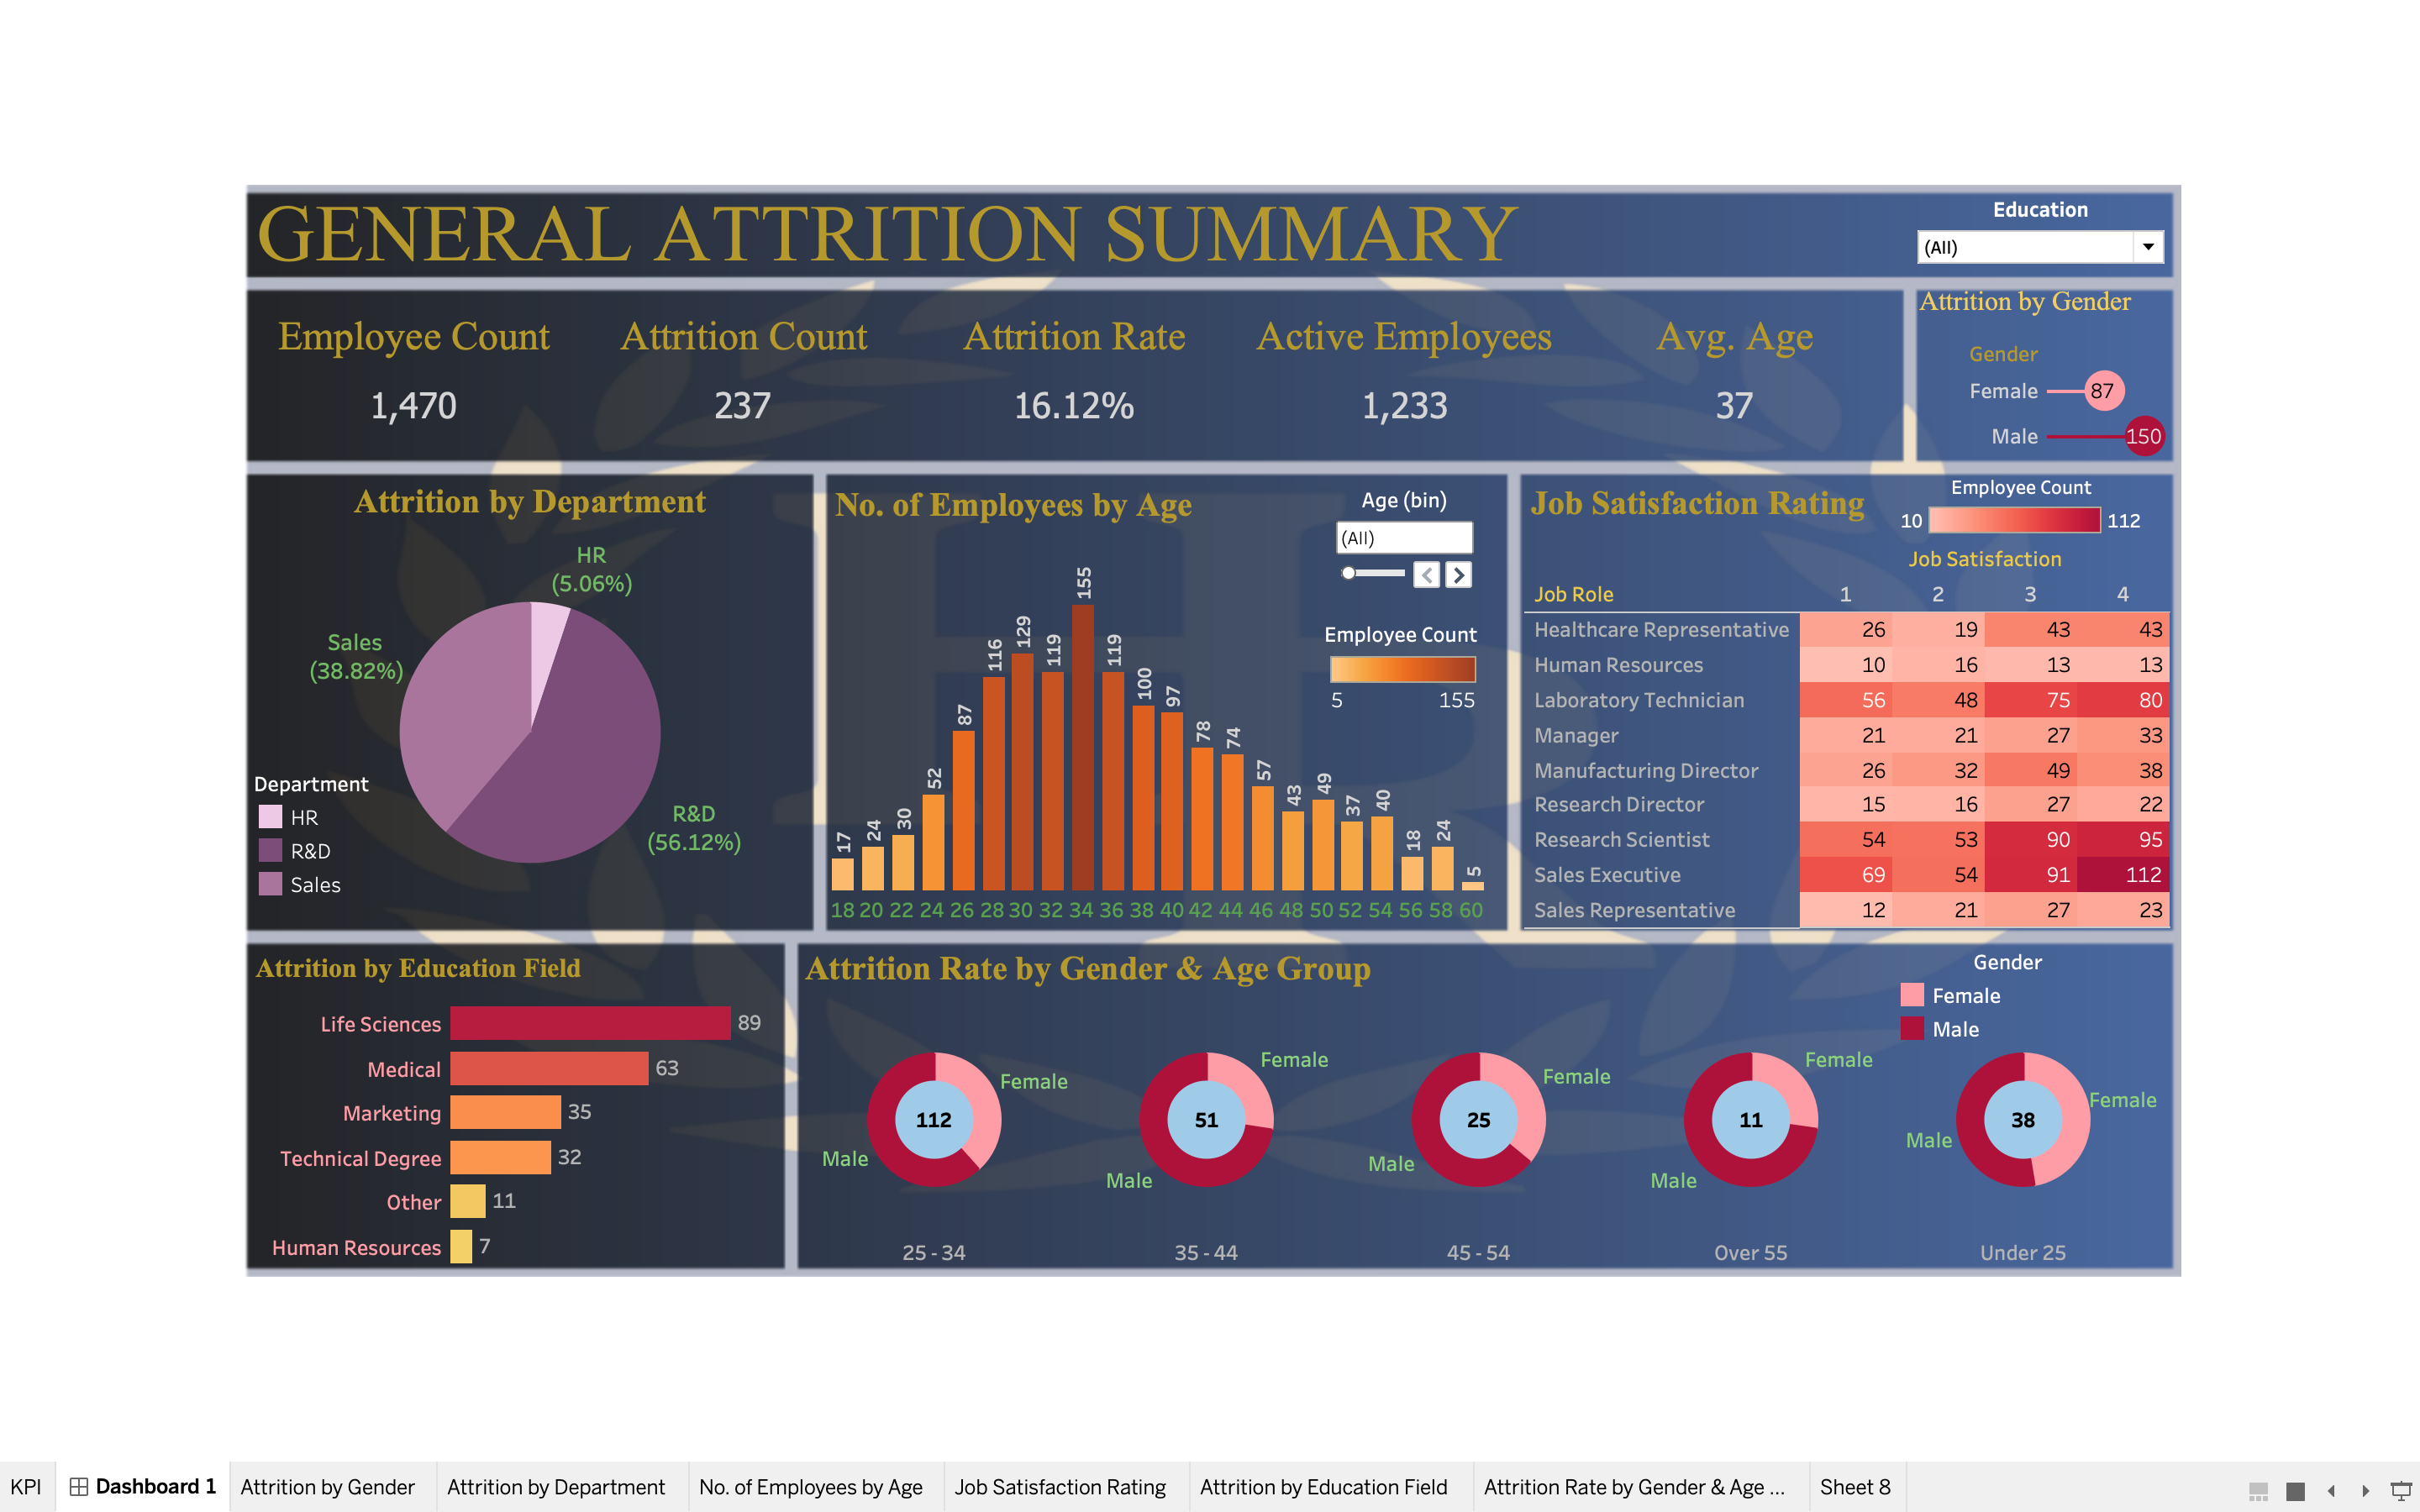

Layout of this report page (visuals, bound fields, positions):
{"tool":"tableau","page":{"name":"Dashboard 1","canvas":[1180,800],"ordinal":0},"visuals":[{"type":"image","param":"Image/HR background.pptx-2.png","box":[8,8,1164,784]},{"type":"text","box":[20,78,915,52]},{"type":"filter","title":"Attrition by Department","param":"[federated.1u7kgch0cr3otj17amkc011vphcv].[none:Education:nk]","box":[1008,81,153,51]},{"type":"worksheet","title":"Attrition by Gender","mark":"Automatic","rows":["Gender"],"cols":["Calculation_2220696879217299457","Calculation_2220696879217299457"],"box":[1008,131,154,107]},{"type":"worksheet","title":"KPI","mark":"Automatic","box":[18,139,983,95]},{"type":"legend","title":"Job Satisfaction Rating","param":"[federated.1u7kgch0cr3otj17amkc011vphcv].[sum:Employee Count:qk]","box":[997,247,152,43]},{"type":"worksheet","title":"Attrition by Department","mark":"Pie","box":[19.2,247.5,333.2,268.3]},{"type":"worksheet","title":"Job Satisfaction Rating","mark":"Square","rows":["Job Role"],"cols":["Job Satisfaction"],"box":[777,249,385,269]},{"type":"worksheet","title":"No. of Employees by Age","mark":"Automatic","rows":["Employee Count"],"cols":["Age (bin)"],"box":[363,250,392,266]},{"type":"filter","title":"No. of Employees by Age","param":"[federated.1u7kgch0cr3otj17amkc011vphcv].[none:Age (bin):ok]","box":[662,254,88,71]},{"type":"legend","title":"No. of Employees by Age","param":"[federated.1u7kgch0cr3otj17amkc011vphcv].[sum:Employee Count:qk]","box":[658,334,95,59]},{"type":"legend","title":"Attrition by Department","param":"[federated.1u7kgch0cr3otj17amkc011vphcv].[none:Department:nk]","box":[21,423,89,89]},{"type":"worksheet","title":"Attrition Rate by Gender & Age Group","mark":"Pie","rows":["Calculation_2222878310409072642","Calculation_2222878310409072642"],"cols":["CF_age band"],"box":[345,526,811,194]},{"type":"worksheet","title":"Attrition by Education Field","mark":"Automatic","rows":["Education Field"],"cols":["Calculation_2220696879217299457"],"box":[18,528,319,192]},{"type":"legend","title":"Attrition Rate by Gender & Age Group","param":"[federated.1u7kgch0cr3otj17amkc011vphcv].[none:Gender:nk]","box":[998,529,134,58]}]}

Visuals, with their boxes on the page's 1180x800 design canvas (x1, y1, x2, y2). These are canvas units, not pixel positions in the 2420x1512 screenshot, which may show the page scaled, cropped or inside an application window:
image: bbox(8, 8, 1172, 792)
text: bbox(20, 78, 935, 130)
"Attrition by Department" filter: bbox(1008, 81, 1161, 132)
"Attrition by Gender" worksheet: bbox(1008, 131, 1162, 238)
"KPI" worksheet: bbox(18, 139, 1001, 234)
"Job Satisfaction Rating" legend: bbox(997, 247, 1149, 290)
"Attrition by Department" worksheet (Pie marks): bbox(19, 248, 352, 516)
"Job Satisfaction Rating" worksheet (Square marks): bbox(777, 249, 1162, 518)
"No. of Employees by Age" worksheet: bbox(363, 250, 755, 516)
"No. of Employees by Age" filter: bbox(662, 254, 750, 325)
"No. of Employees by Age" legend: bbox(658, 334, 753, 393)
"Attrition by Department" legend: bbox(21, 423, 110, 512)
"Attrition Rate by Gender & Age Group" worksheet (Pie marks): bbox(345, 526, 1156, 720)
"Attrition by Education Field" worksheet: bbox(18, 528, 337, 720)
"Attrition Rate by Gender & Age Group" legend: bbox(998, 529, 1132, 587)
